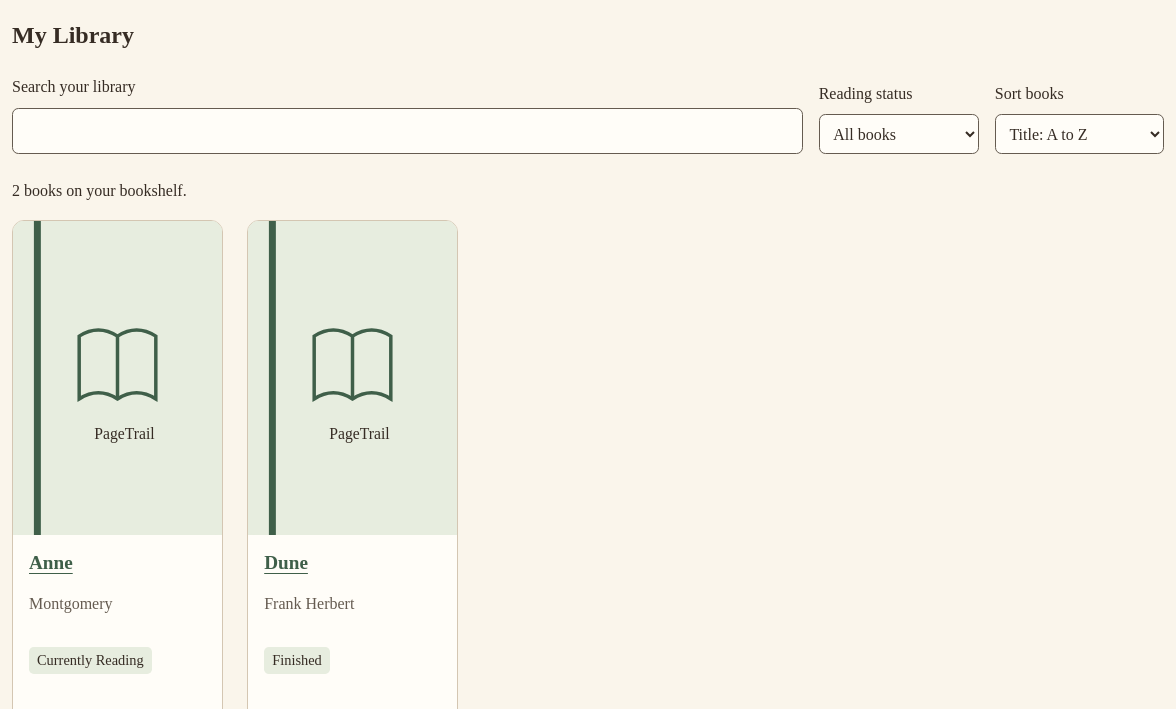
Scenario: library combines controls and recovers from no matches
The width and height of the screenshot is (1176, 709).
expect the links read "Anne", "Dune", in this order: met, box [29,552,73,573]; [264,552,308,573]
Select "Rating: highest first" in the dropdown labelled "Sort books" at (1079, 134), box [995,114,1164,154]
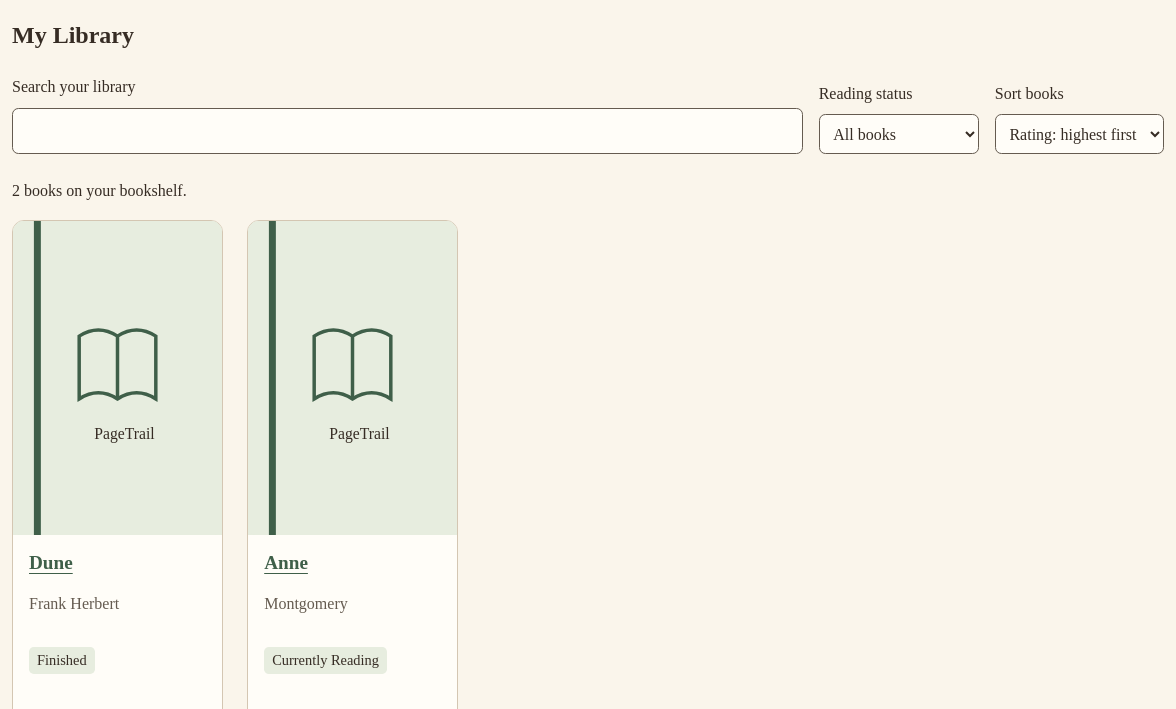
expect the links read "Dune", "Anne", in this order: met, box [29,552,73,573]; [264,552,308,573]
Type "HERBERT" into the search field at (407, 131), box [12,108,803,154]
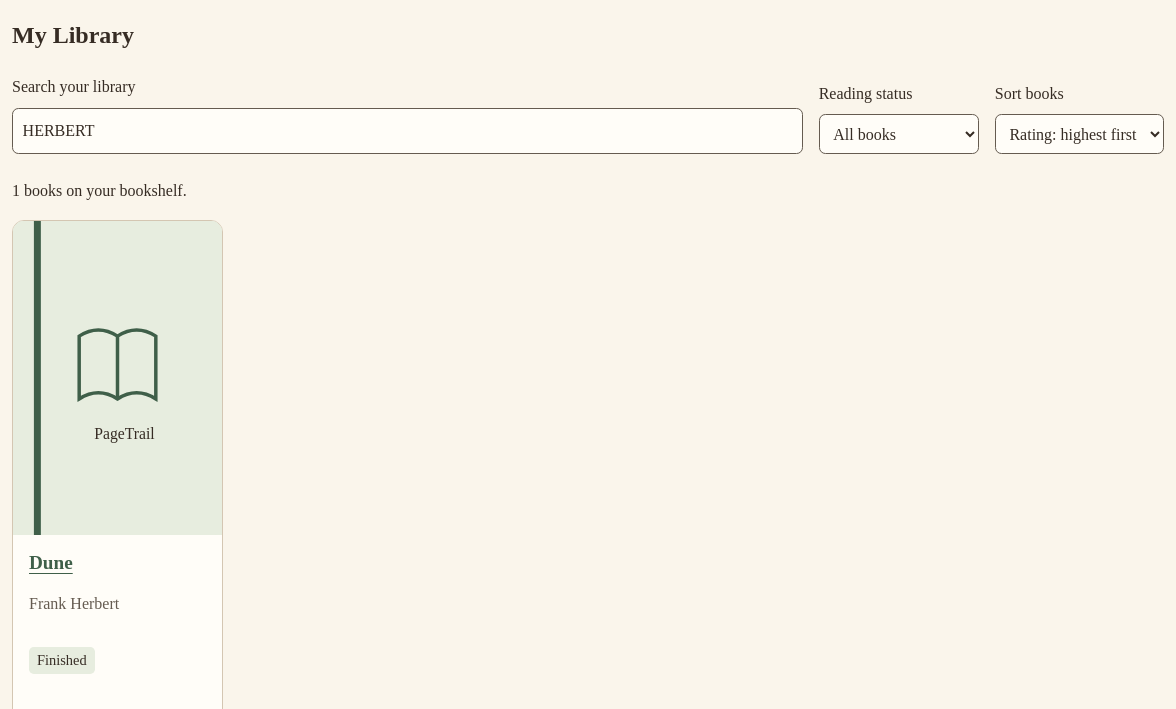
expect the number of links is 1: met, box [29,552,73,573]
Select "Currently Reading" in the dropdown labelled "Reading status" at (899, 134), box [819,114,979,154]
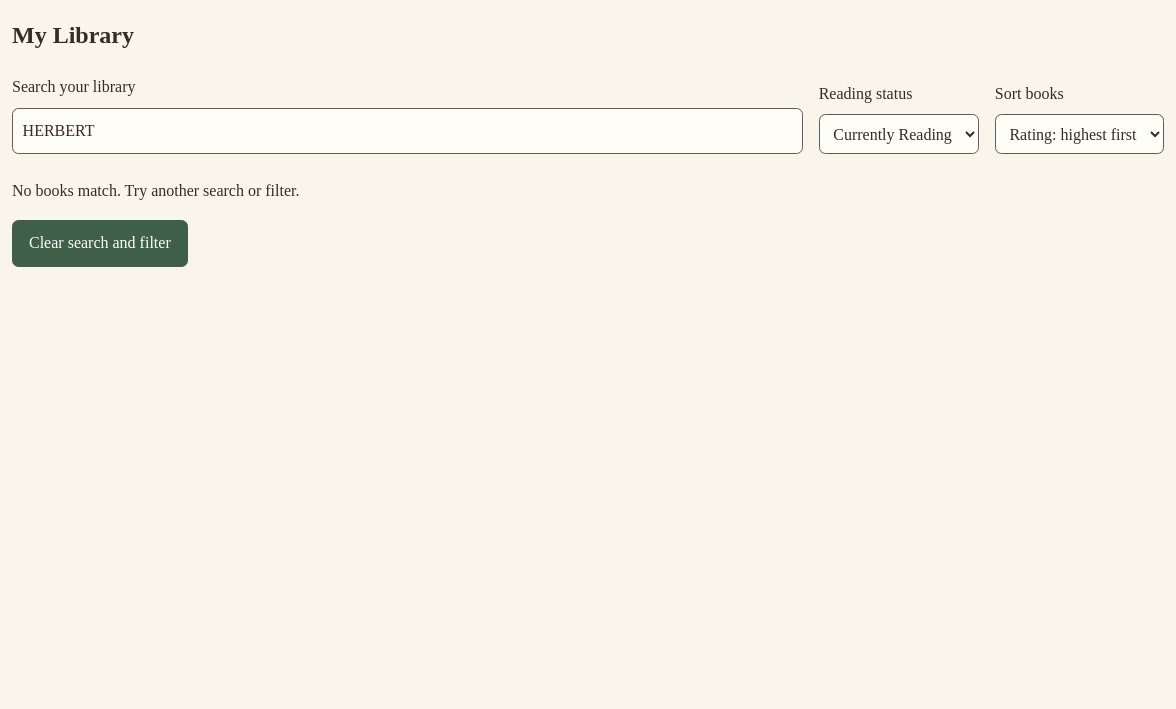
expect the message shows "No books match": met, box [12,182,300,199]
Click the button "Clear search and filter" at (100, 243), box [12,220,188,267]
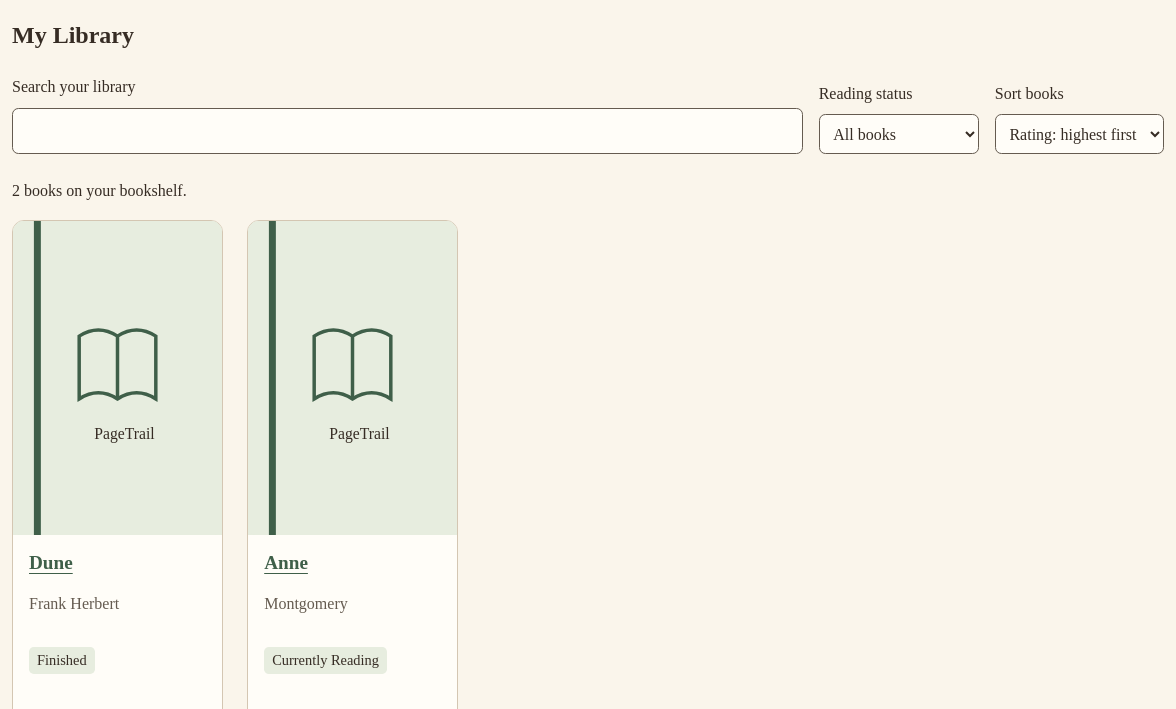
expect the number of links is 2: met, box [29,552,73,573]; [264,552,308,573]
